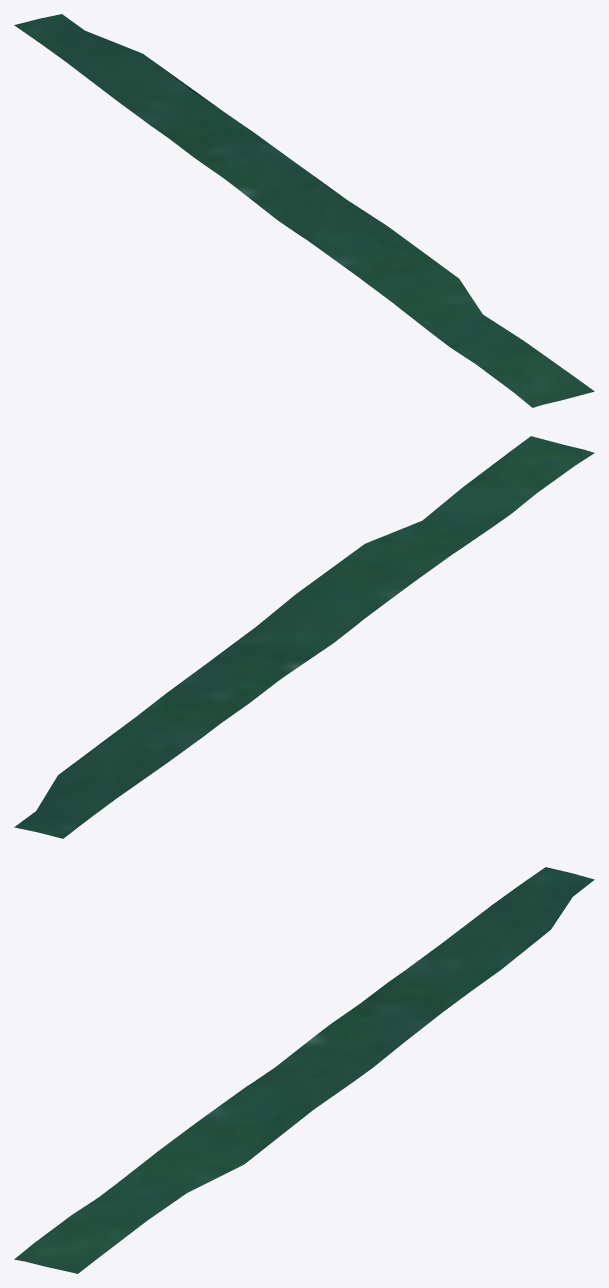
The picture shows the model from 3 angles, top to bottom: view 1: azimuth 30°, elevation 25°; view 2: azimuth 150°, elevation 25°; view 3: azimuth 330°, elevation 25°; orthographic projection. The views are drawn at different scales.
Bounding box in the file's own units: 4.39 × 0.3267 × 52.22.
Materials: 1 (1 with a texture image).
